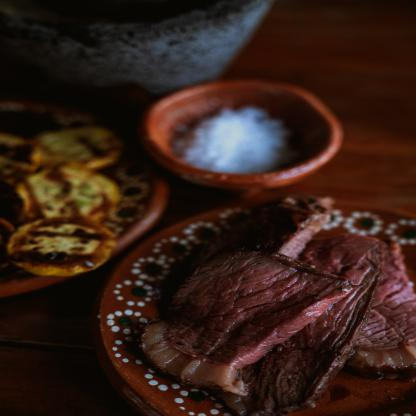Carne: (132, 250, 338, 382), (245, 223, 380, 396), (327, 225, 415, 365), (186, 196, 333, 258)
